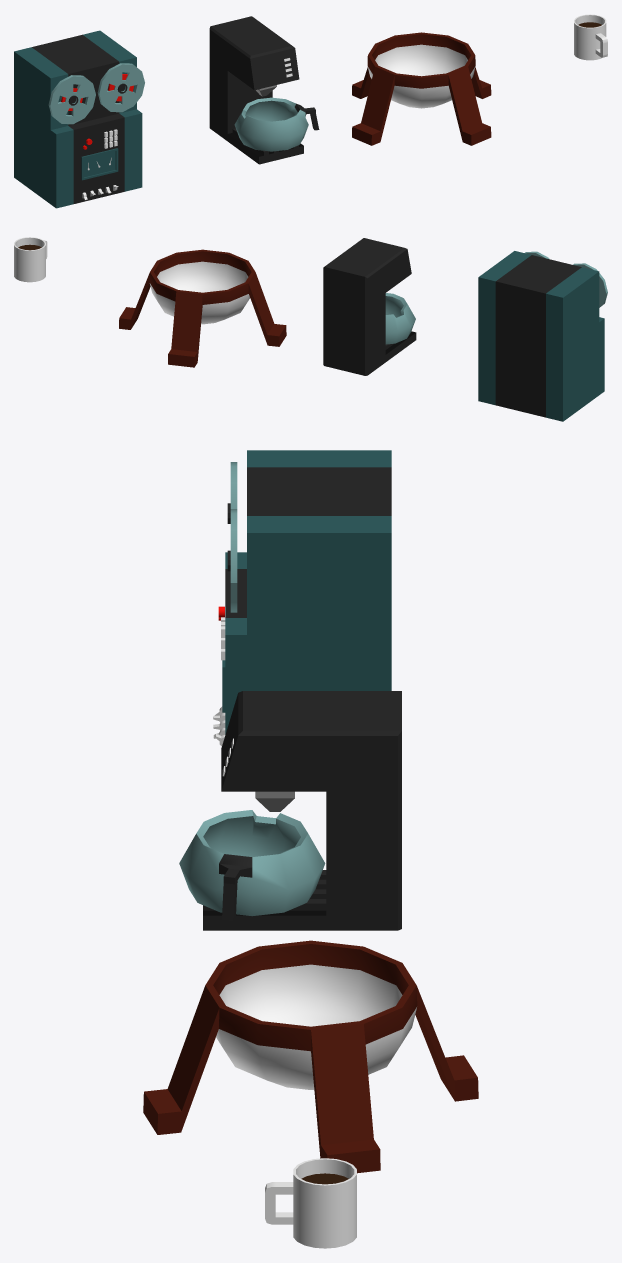
Rendered from Props_D.fbx.
3 views of the same model, one above another, from view 1: azimuth 30°, elevation 25°; view 2: azimuth 150°, elevation 25°; view 3: azimuth 270°, elevation 25° (orthographic). The views are drawn at different scales.
Parts seen in each view (by area): view 1: Box001, Bowl, Box012, Pitcher, Cylinder001, Cylinder003, mug, Box002; view 2: Box001, Bowl, Box012, mug, Pitcher, Cylinder001; view 3: Box001, Bowl, Box012, Pitcher, mug.
Part boxes in pixels (bbox=[...]): Box001: bbox=[14, 30, 142, 208]; Bowl: bbox=[352, 32, 491, 145]; Box012: bbox=[209, 16, 303, 164]; Pitcher: bbox=[234, 97, 319, 151]; Cylinder001: bbox=[48, 75, 95, 124]; Cylinder003: bbox=[97, 63, 144, 112]; mug: bbox=[574, 14, 607, 60]; Box002: bbox=[81, 148, 118, 180]; Box001: bbox=[478, 251, 604, 421]; Bowl: bbox=[119, 249, 286, 367]; Box012: bbox=[323, 238, 416, 375]; mug: bbox=[14, 237, 47, 282]; Pitcher: bbox=[385, 293, 415, 344]; Cylinder001: bbox=[573, 263, 607, 307]; Box001: bbox=[225, 450, 391, 734]; Bowl: bbox=[143, 940, 478, 1173]; Box012: bbox=[203, 691, 401, 930]; Pitcher: bbox=[179, 810, 325, 920]; mug: bbox=[265, 1158, 356, 1248].
Size of the model in its own units: 66.11 by 15.86 by 16.89.
